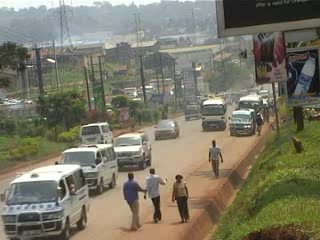Car: (112, 130, 153, 169), (151, 118, 181, 140), (182, 102, 199, 120)
